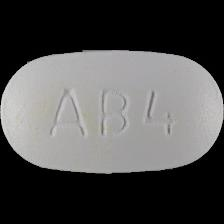61919-512: (0, 0, 224, 224)
